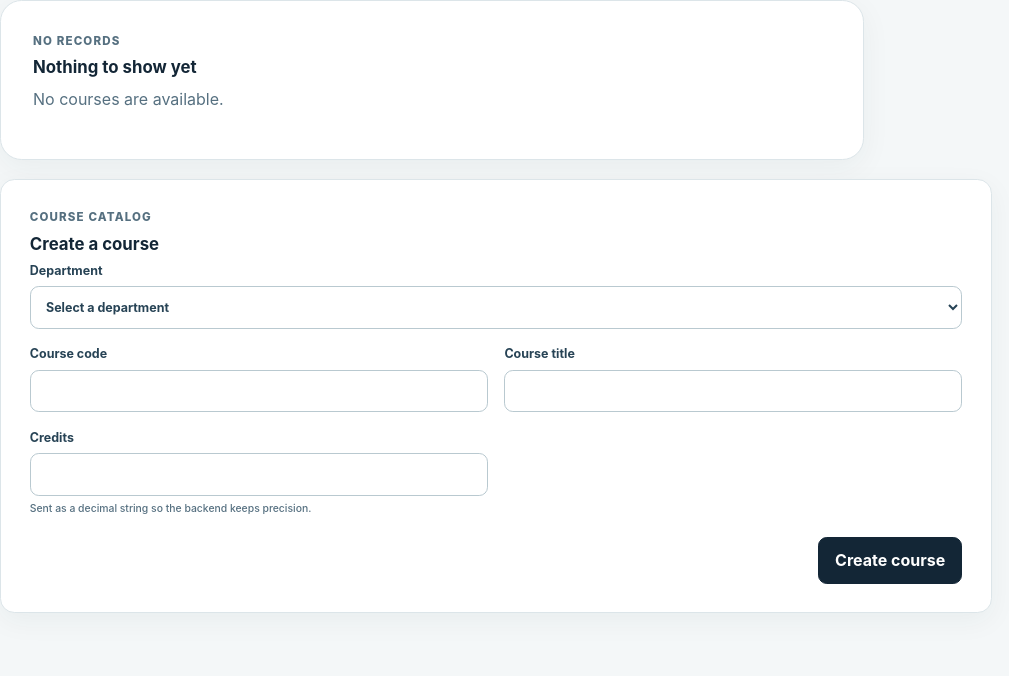
Test case: CourseAdministration › rejects malformed credits before contacting the backend
Type "six" into the field labelled "Credits" at (259, 474), box [30,453,488,496]
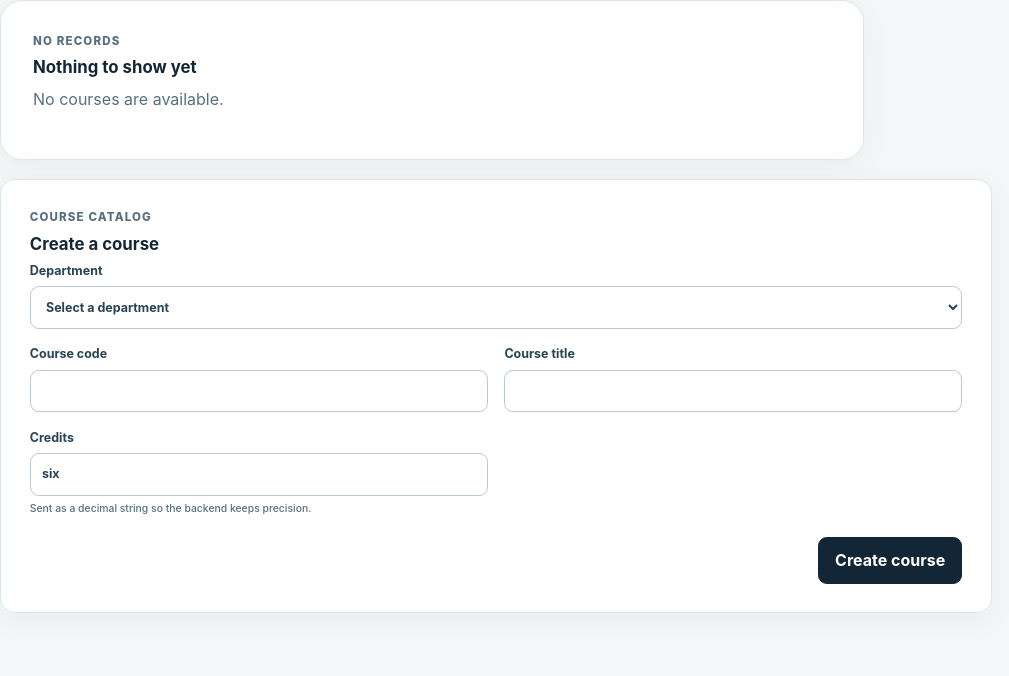
Submit the form from the button "Create course", box [818,537,962,584]
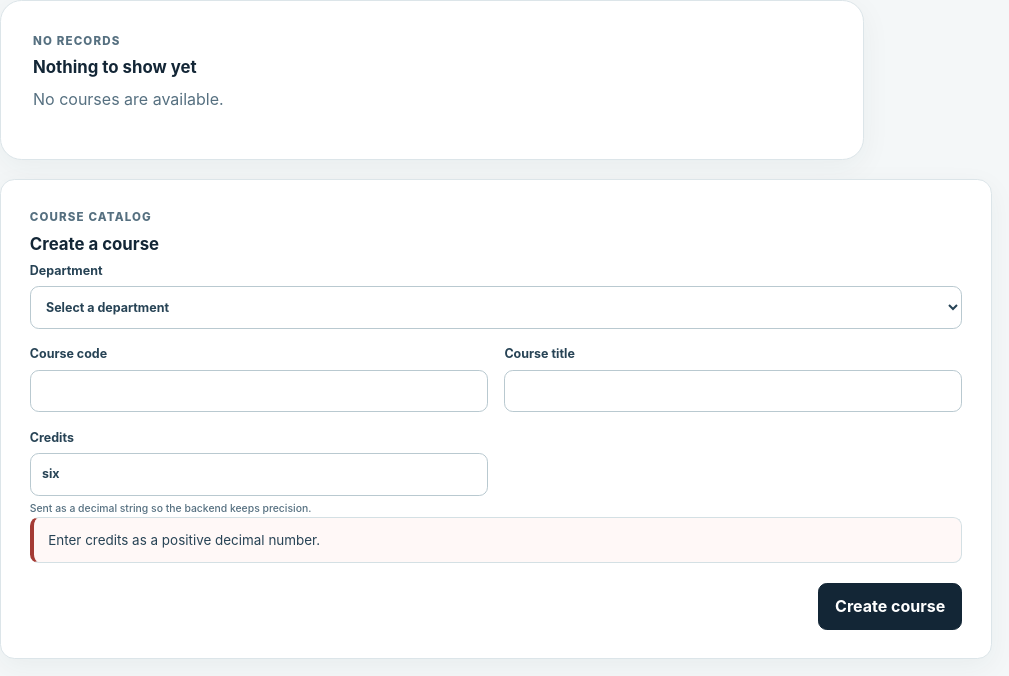
Expected: the message reads "Enter credits as a positive decimal number.", [48,532,320,548]
